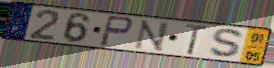2: (29, 8, 63, 42)
6: (62, 12, 93, 45)
N: (132, 19, 171, 53)
P: (98, 14, 134, 48)
S: (207, 27, 247, 60)
T: (183, 23, 211, 57)
